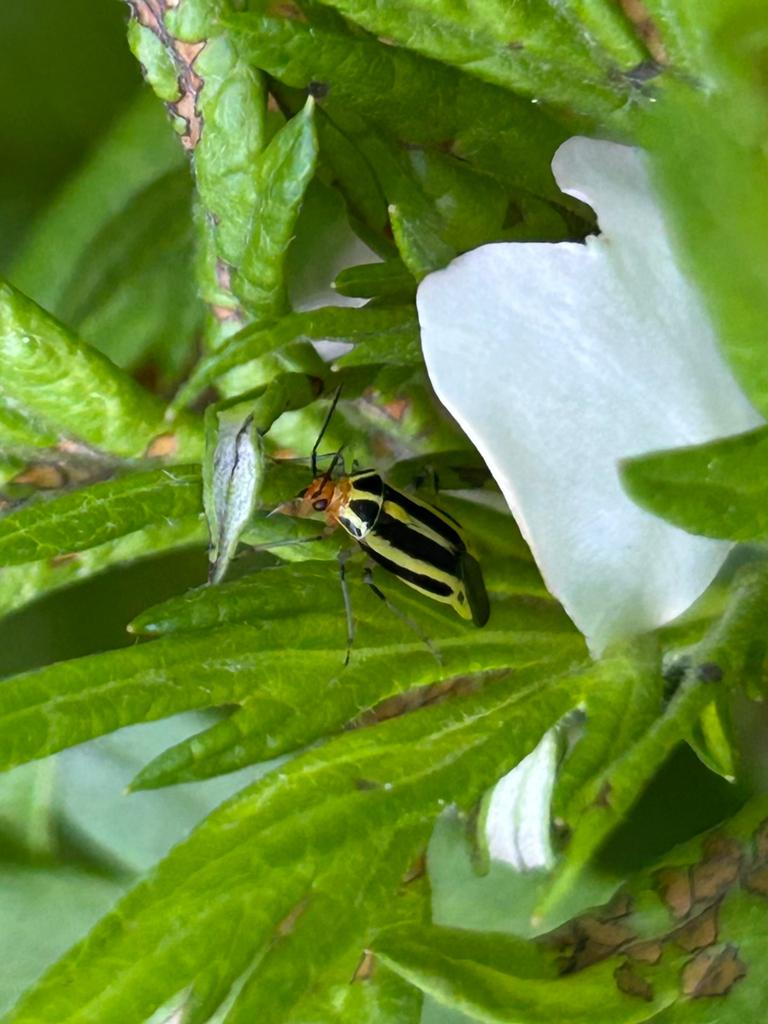plant_bugs: (233, 343, 531, 696)
